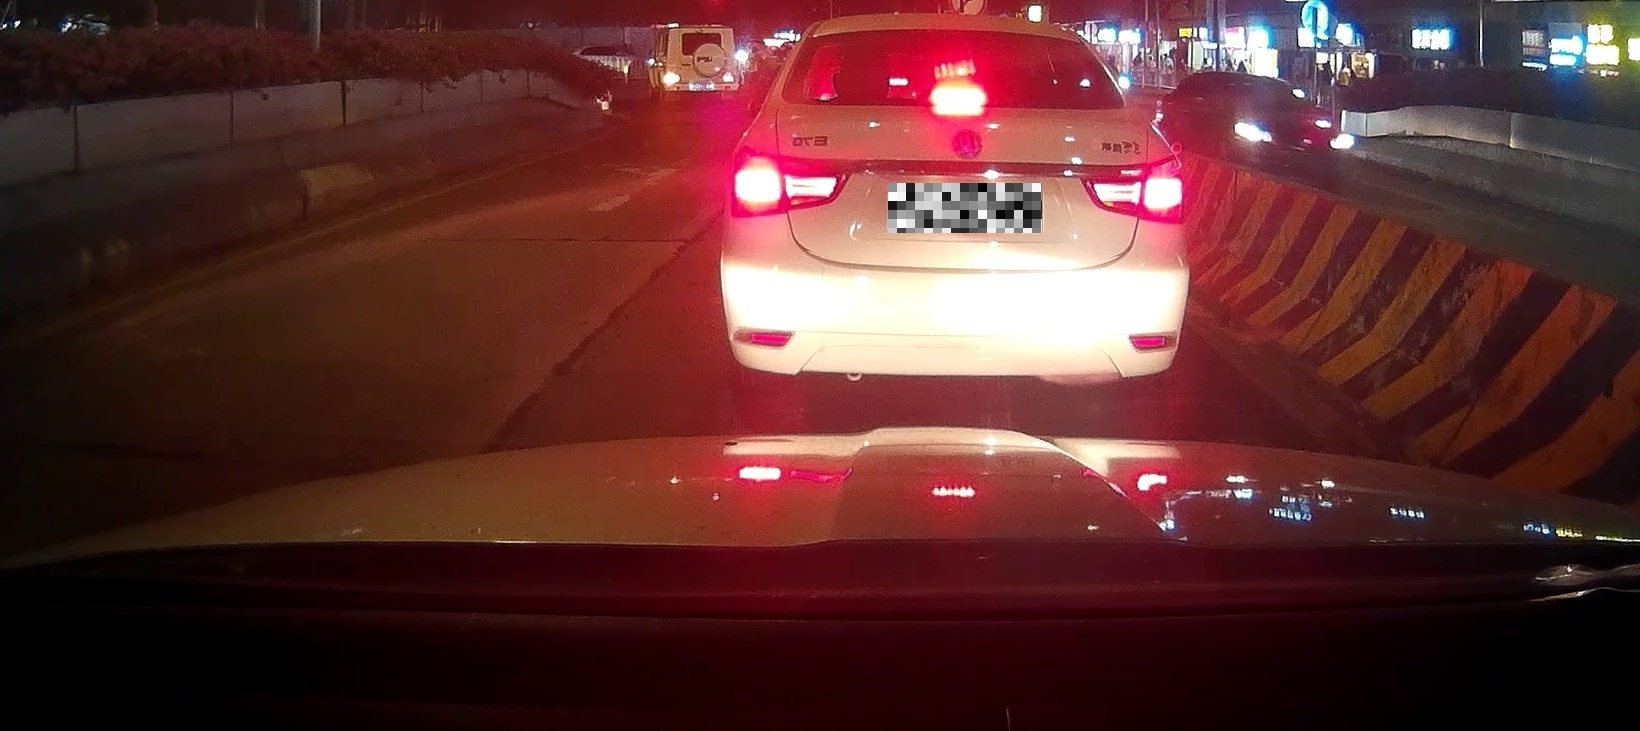L_light: (730, 146, 855, 218)
R_light: (1080, 155, 1186, 224)
T_light: (931, 84, 986, 107)
night-brake: (717, 13, 1190, 429)
plate_1: (888, 183, 1042, 233)
